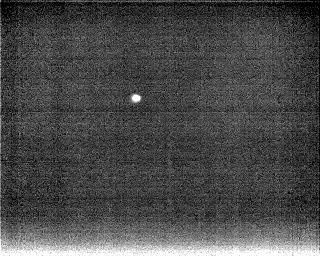AIRPLANE: (130, 91, 143, 105)
